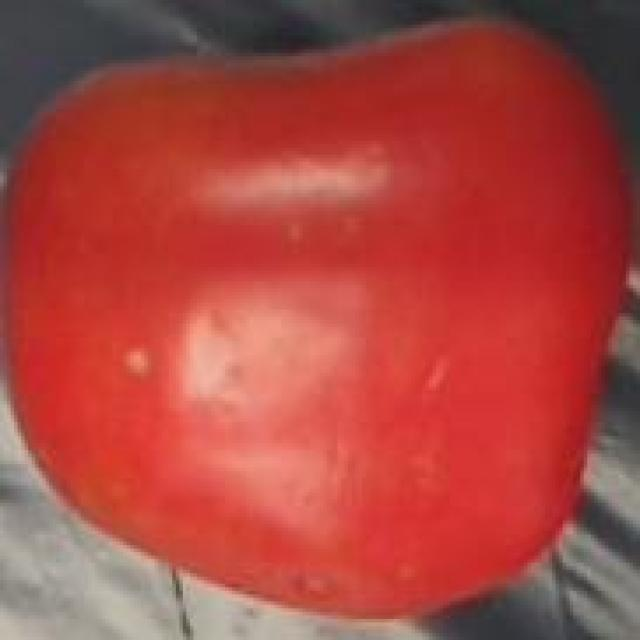overripe tomato: (3, 10, 640, 636)
